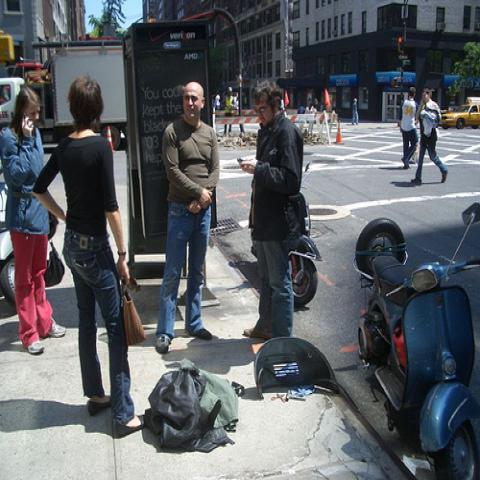car: (442, 97, 478, 130), (0, 78, 26, 122)
motorcycle: (351, 200, 479, 479), (289, 190, 321, 310)
truck: (14, 38, 132, 140)
